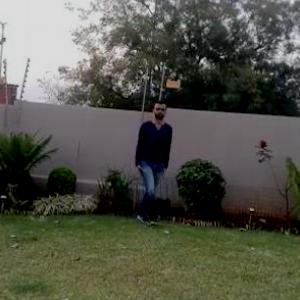follow: (128, 100, 170, 231)
